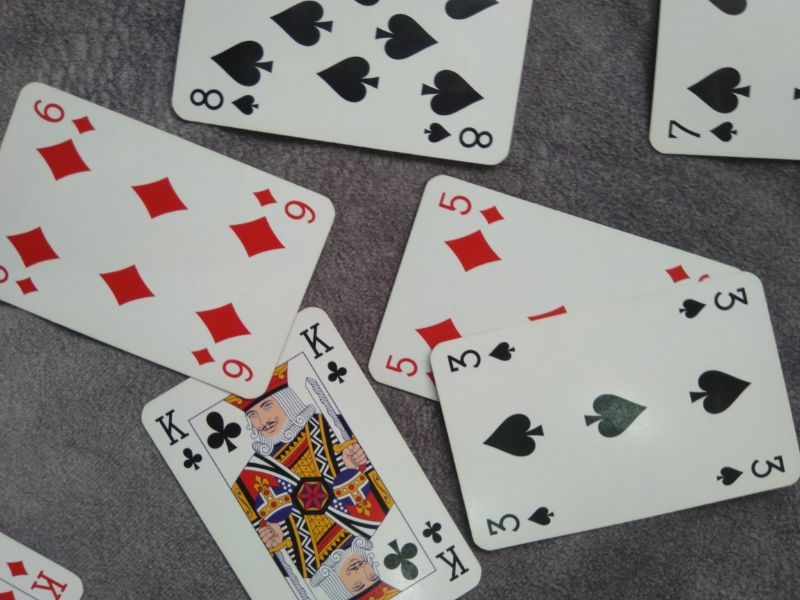3s: (675, 282, 753, 325), (445, 335, 520, 376), (711, 451, 791, 489), (483, 502, 555, 539)
5d: (435, 189, 508, 226)
6d: (186, 342, 258, 386), (249, 184, 318, 227), (31, 97, 100, 138)
7s: (661, 116, 744, 147)
8s: (416, 118, 497, 151), (188, 85, 265, 118)
Kc: (417, 516, 470, 584), (298, 318, 349, 387), (155, 404, 205, 474)
Kd: (5, 553, 70, 599)
